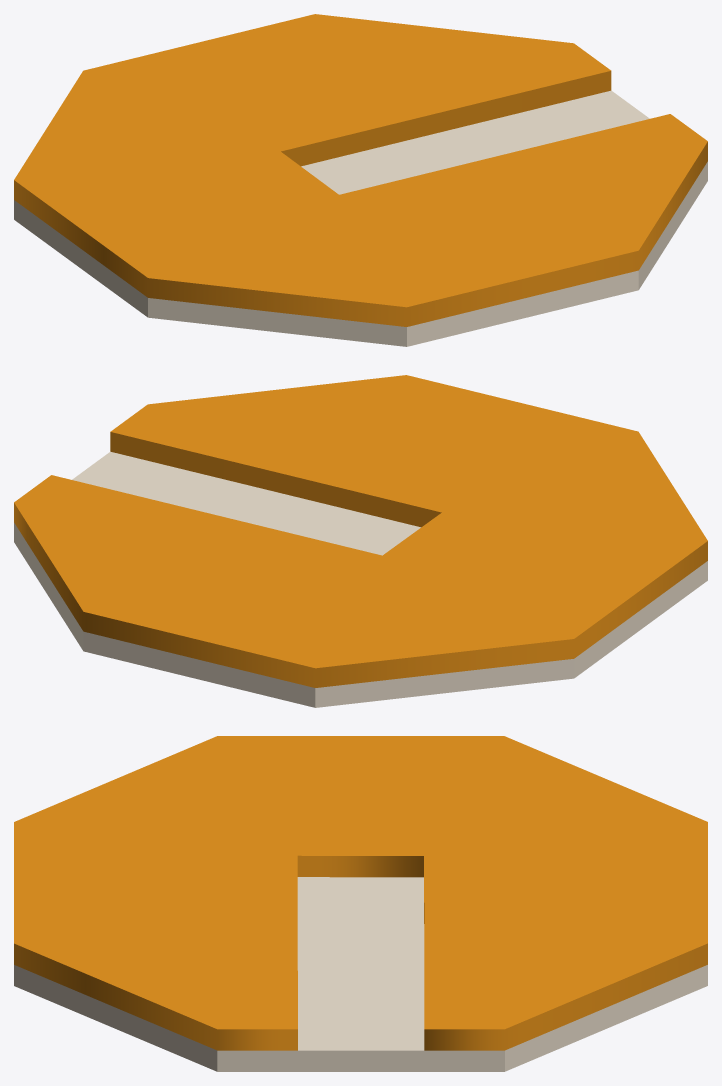
The model's file is Tile_001_Start_end.FBX.
The picture shows the model from 3 angles, top to bottom: view 1: azimuth 30°, elevation 25°; view 2: azimuth 150°, elevation 25°; view 3: azimuth 270°, elevation 25°; orthographic projection. The views are drawn at different scales.
Parts seen in each view (by area): view 1: Line055; view 2: Line055; view 3: Line055.
Boxes of the visible parts, bbox=[...] form: Line055: bbox=[14, 14, 707, 346]; Line055: bbox=[14, 375, 707, 707]; Line055: bbox=[14, 736, 707, 1071].
Size of the model in its own units: 14.79 by 1 by 14.79.
